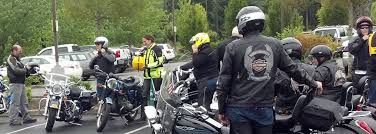helmet: (234, 5, 265, 41), (91, 36, 112, 54)
